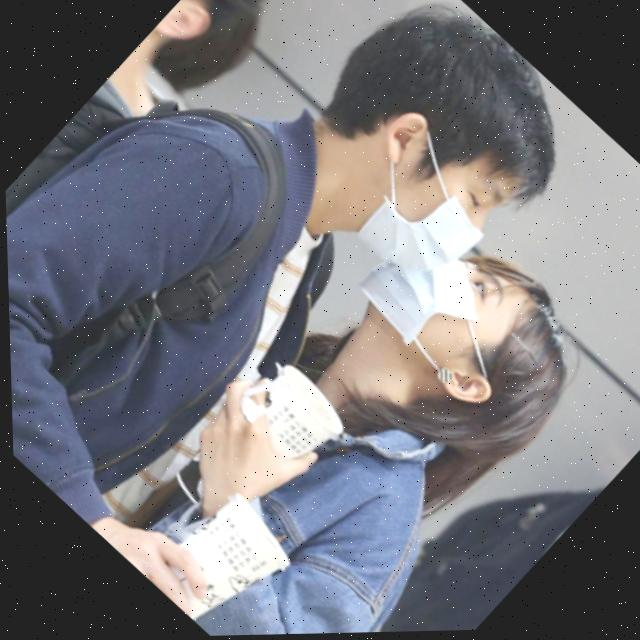Mask: (322, 125, 506, 308), (345, 222, 527, 403)
